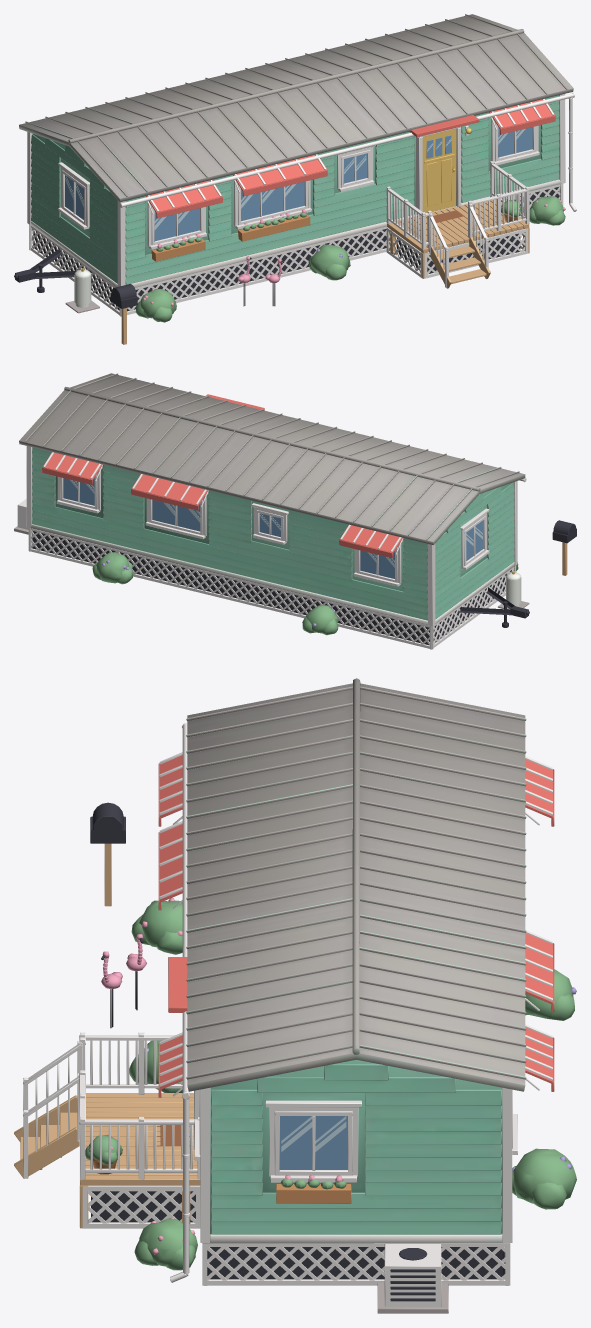
File: mobile-home-ba9fb95e.glb
3 renders of one model, top to bottom at view 1: azimuth 30°, elevation 25°; view 2: azimuth 150°, elevation 25°; view 3: azimuth 270°, elevation 25°, orthographic. The views are drawn at different scales.
Visible parts, largest first — view 1: mobile-home_body, mobile-home_details; view 2: mobile-home_body, mobile-home_details; view 3: mobile-home_body, mobile-home_details.
Boxes of the visible parts, x1,y1,x2,y2 form: mobile-home_body: (19,14,573,287); mobile-home_details: (14,92,576,344); mobile-home_body: (19,373,525,625); mobile-home_details: (14,394,576,649); mobile-home_body: (186,678,526,1243); mobile-home_details: (14,723,576,1313).
Size of the model in its own units: 14.61 by 3.77 by 7.94.
Materials: 2 (2 with a texture image).
